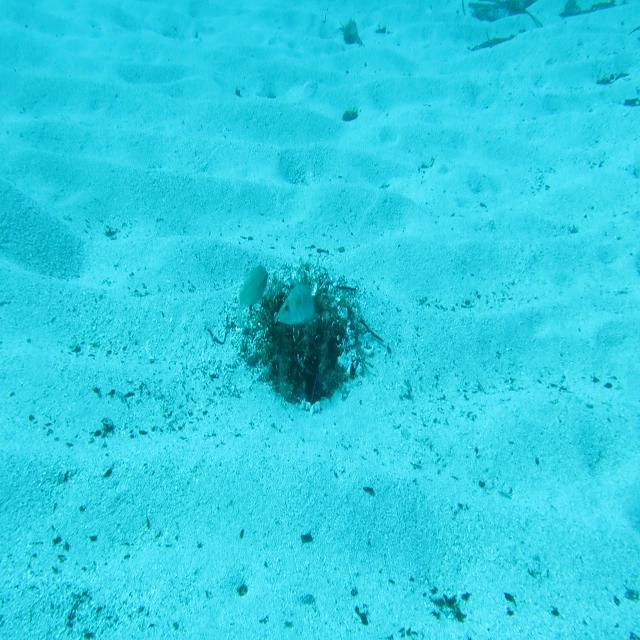DAN_CIRC: (276, 276, 316, 329)
female: (236, 263, 270, 330)
nest: (226, 251, 388, 414)
